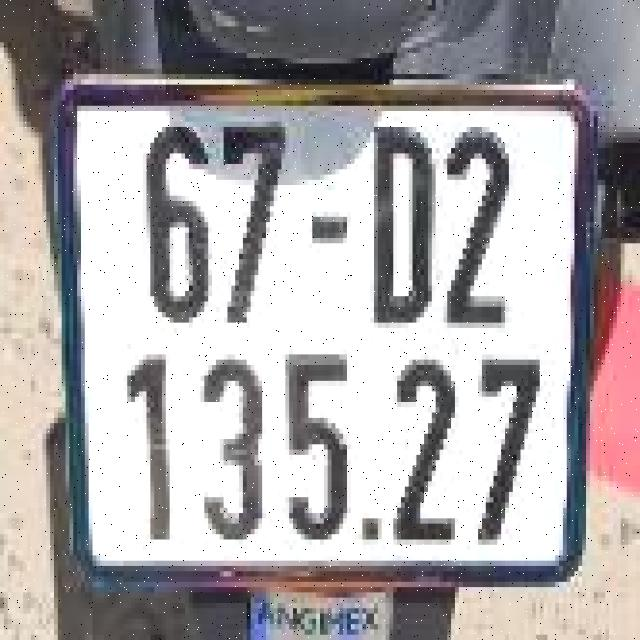1: (120, 333, 185, 550)
2: (439, 114, 516, 330), (382, 352, 462, 552)
3: (198, 339, 276, 550)
5: (282, 325, 362, 558)
6: (135, 114, 220, 330)
7: (216, 101, 289, 333), (471, 349, 552, 550)
D: (355, 108, 443, 336)
